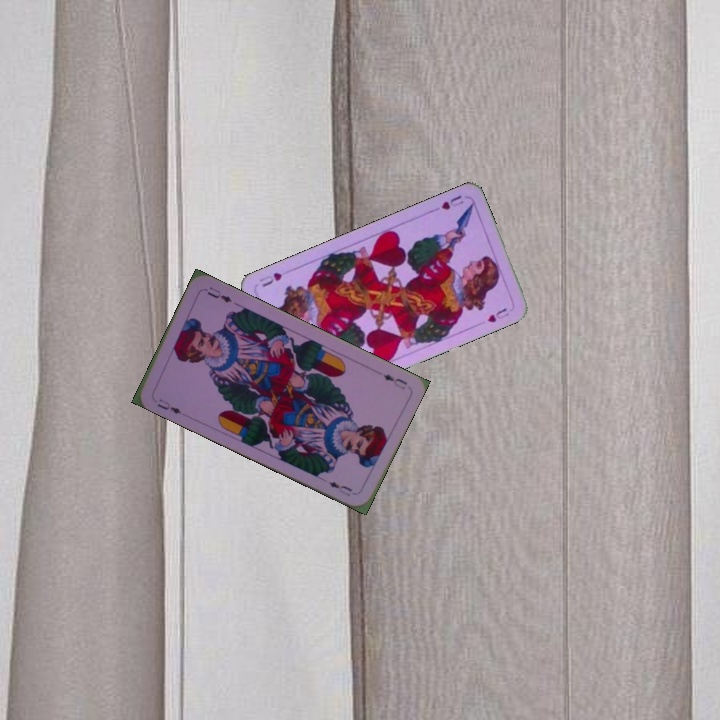EU: (153, 395, 184, 417), (379, 370, 410, 392)
HU: (437, 191, 466, 213)
